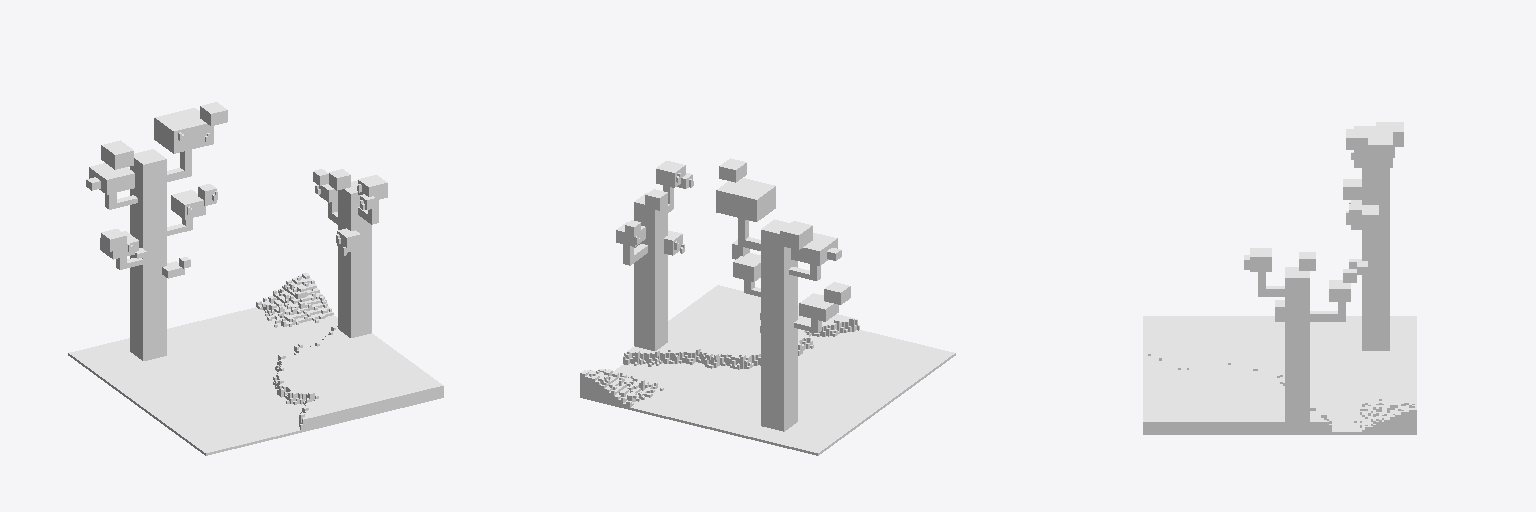
File: habitat_jirafa.vox-2.obj
The picture shows the model from 3 angles: view 1: azimuth 30°, elevation 25°; view 2: azimuth 150°, elevation 25°; view 3: azimuth 270°, elevation 25°; orthographic projection.
Visible parts, largest first — view 1: object 1; view 2: object 1; view 3: object 1.
Boxes of the visible parts, x1=… form: object 1: x1=68, y1=102, x2=443, y2=455; object 1: x1=580, y1=158, x2=955, y2=455; object 1: x1=1143, y1=122, x2=1416, y2=434.
Bounding box in the file's own units: 10 × 9.7 × 10.